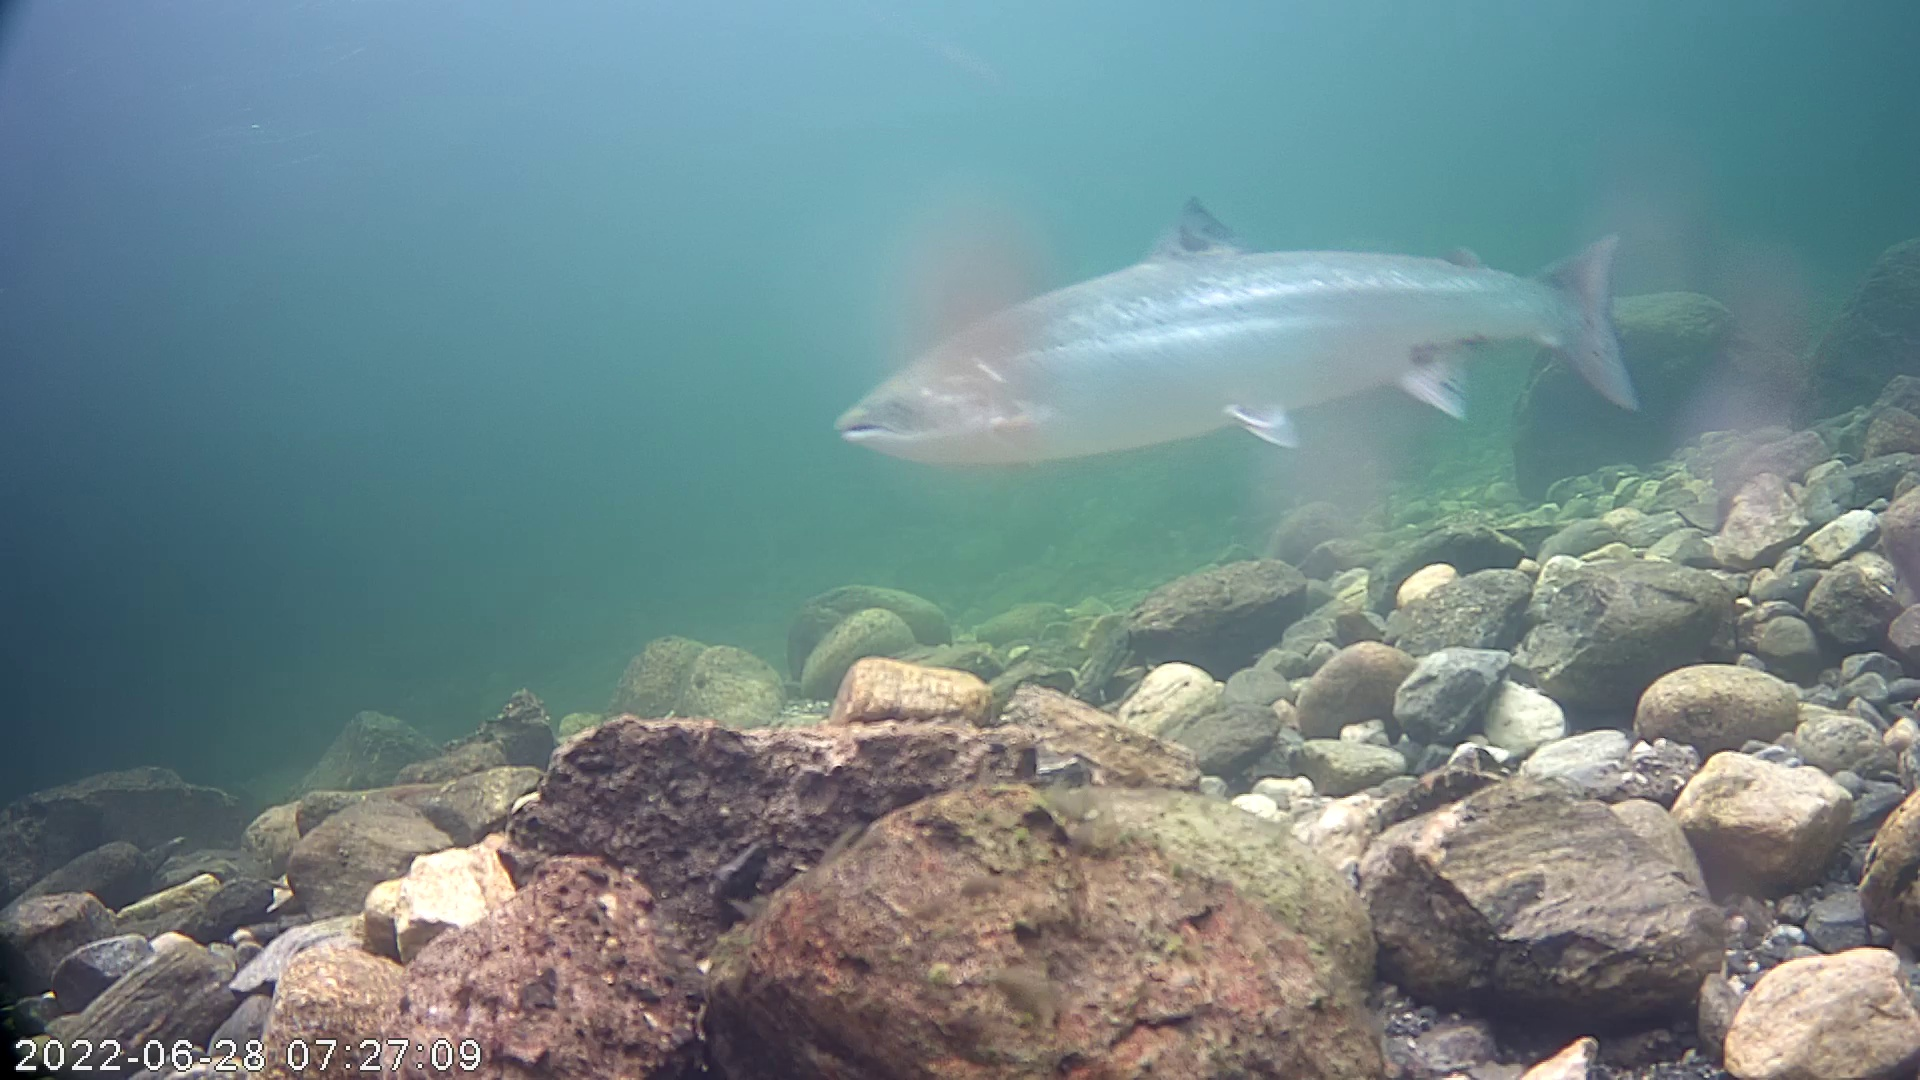salmon: (807, 102, 1667, 543)
